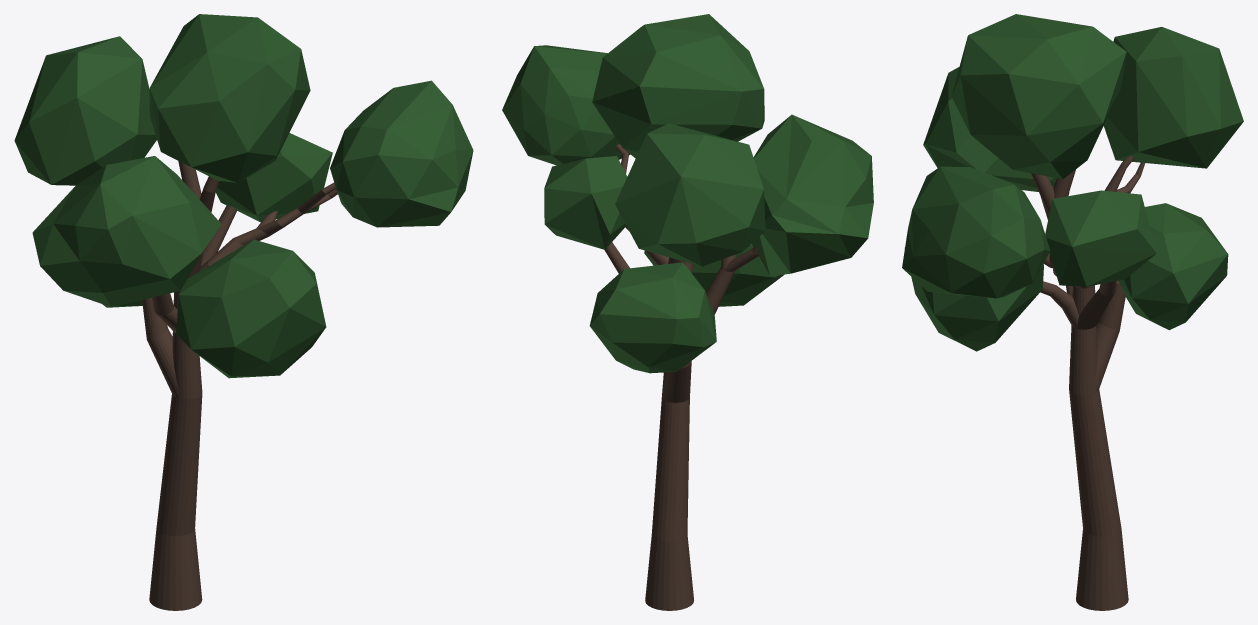
The model's file is Tree3.fbx.
3 views of the same model, side by side, from view 1: azimuth 30°, elevation 25°; view 2: azimuth 150°, elevation 25°; view 3: azimuth 270°, elevation 25° (orthographic). The views are drawn at different scales.
Parts seen in each view (by area): view 1: Icosphere, Cylinder; view 2: Icosphere, Cylinder; view 3: Icosphere, Cylinder.
Boxes of the visible parts, x1,y1,x2,y2 form: Icosphere: (14,14,473,378); Cylinder: (142,161,337,610); Icosphere: (502,14,873,373); Cylinder: (604,144,758,610); Icosphere: (902,14,1243,351); Cylinder: (1031,156,1145,610).
Bounding box in the file's own units: 520 × 726 × 383.
